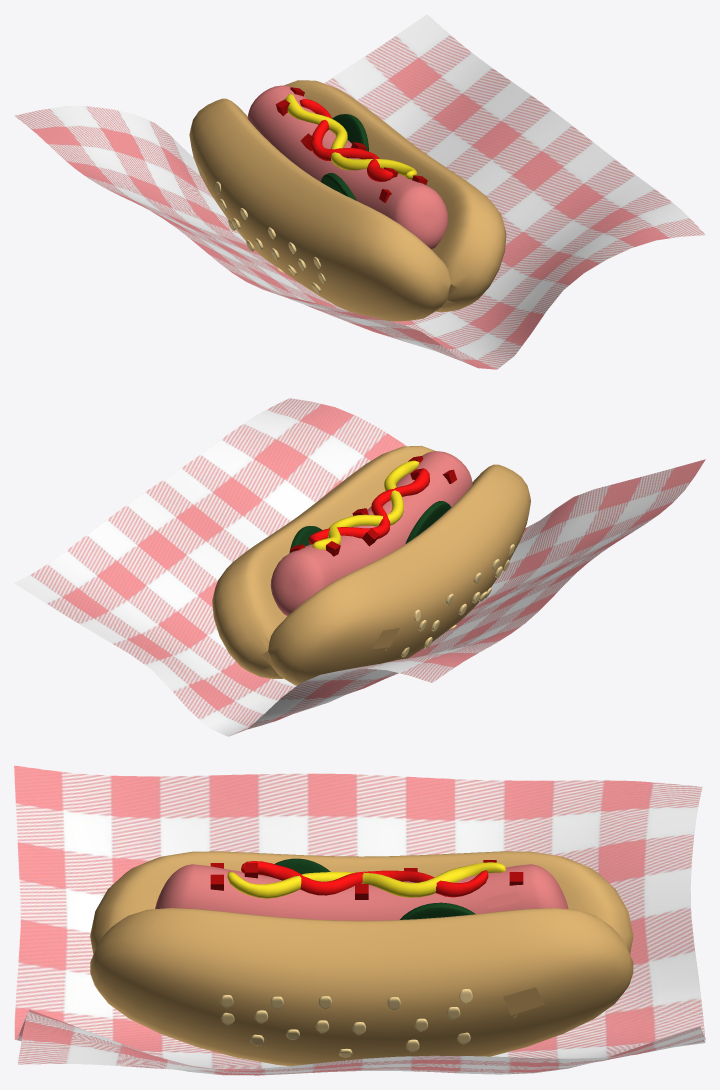
The model's file is Hotdog sencillo.glb.
3 renders of one model, top to bottom at view 1: azimuth 30°, elevation 25°; view 2: azimuth 150°, elevation 25°; view 3: azimuth 270°, elevation 25°, orthographic. The views are drawn at different scales.
Visible parts, largest first — view 1: Object_8, Object_3, Object_4, Object_7, Object_6, Object_2, Object_5; view 2: Object_8, Object_3, Object_4, Object_7, Object_6, Object_2, Object_5; view 3: Object_8, Object_3, Object_4, Object_7, Object_6, Object_2, Object_9, Object_5, Object_10.
Part boxes in pixels (x1,y1,x2,y2): Object_8: (14, 14, 705, 369); Object_3: (189, 80, 506, 321); Object_4: (247, 85, 448, 249); Object_7: (285, 94, 416, 179); Object_6: (299, 99, 393, 181); Object_2: (321, 114, 368, 200); Object_5: (275, 87, 427, 202); Object_8: (14, 398, 705, 736); Object_3: (212, 445, 530, 685); Object_4: (270, 451, 472, 616); Object_7: (312, 460, 419, 549); Object_6: (309, 469, 429, 544); Object_2: (289, 501, 451, 553); Object_5: (290, 456, 456, 556); Object_8: (14, 765, 705, 1075); Object_3: (90, 851, 633, 1066); Object_4: (155, 864, 568, 920); Object_7: (227, 862, 505, 898); Object_6: (241, 861, 488, 897); Object_2: (274, 858, 475, 919); Object_9: (315, 989, 472, 1052); Object_5: (210, 860, 523, 899); Object_10: (254, 996, 516, 1057).
Size of the model in its own units: 13.94 by 4.6 by 15.41.
8 materials, 1 textured.
